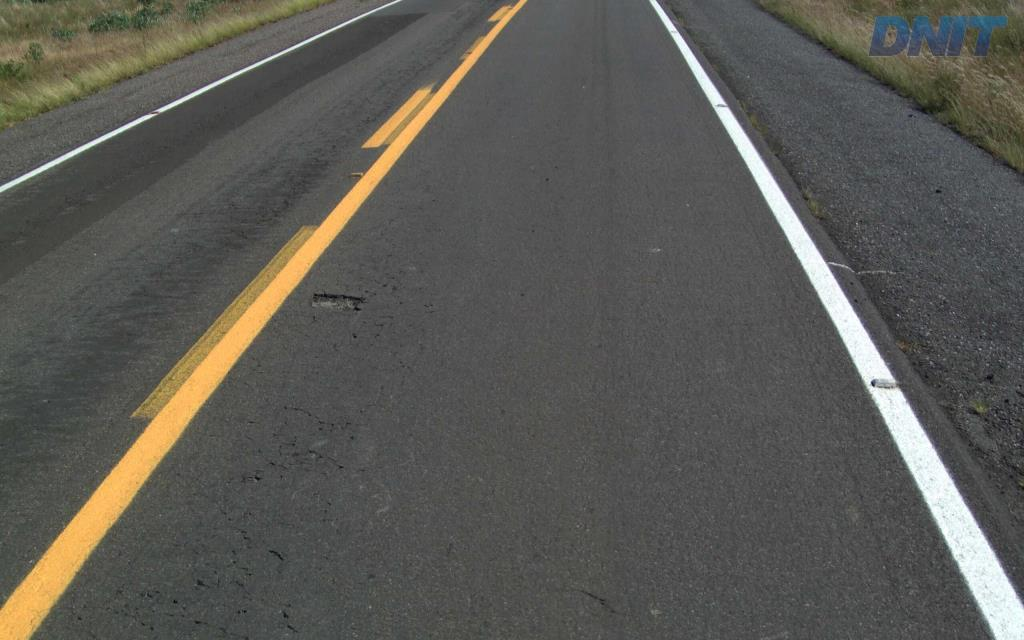pothole: (302, 288, 370, 314)
